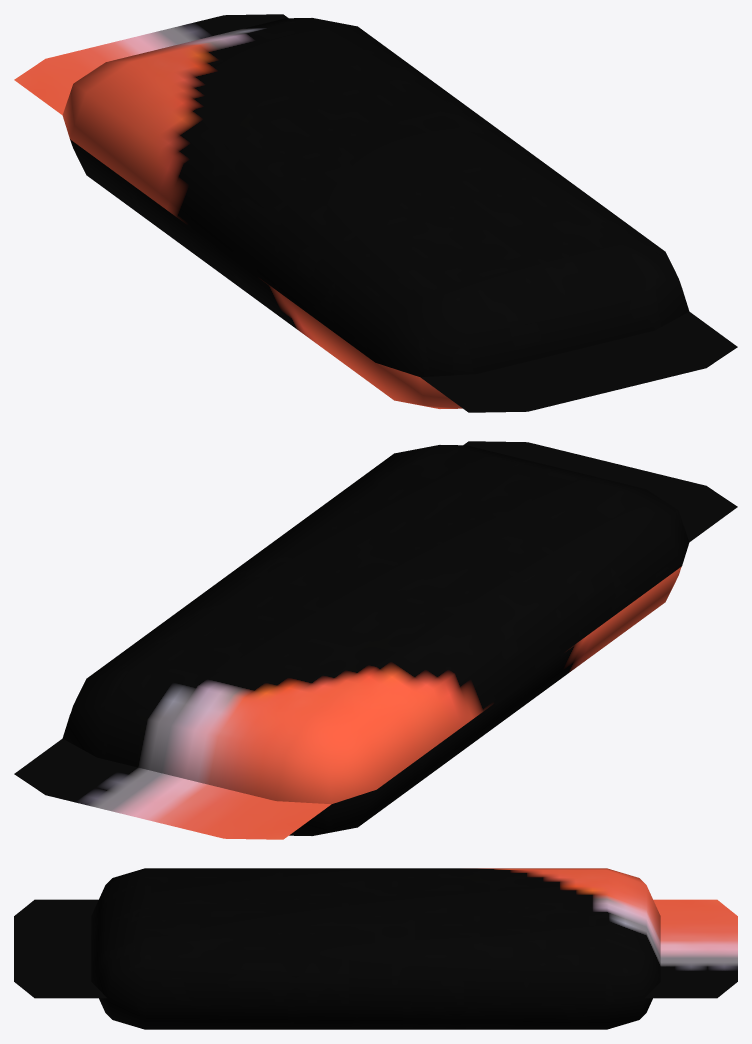
File: Candy Chica.fbx
3 renders of one model, top to bottom at view 1: azimuth 30°, elevation 25°; view 2: azimuth 150°, elevation 25°; view 3: azimuth 270°, elevation 25°, orthographic. The views are drawn at different scales.
Parts seen in each view (by area): view 1: Candy Chica; view 2: Candy Chica; view 3: Candy Chica.
Boxes of the visible parts, x1,y1,x2,y2 form: Candy Chica: (14, 14, 737, 412); Candy Chica: (14, 441, 737, 839); Candy Chica: (14, 868, 737, 1029).
Size of the model in its own units: 9.43 by 3.59 by 25.69.
